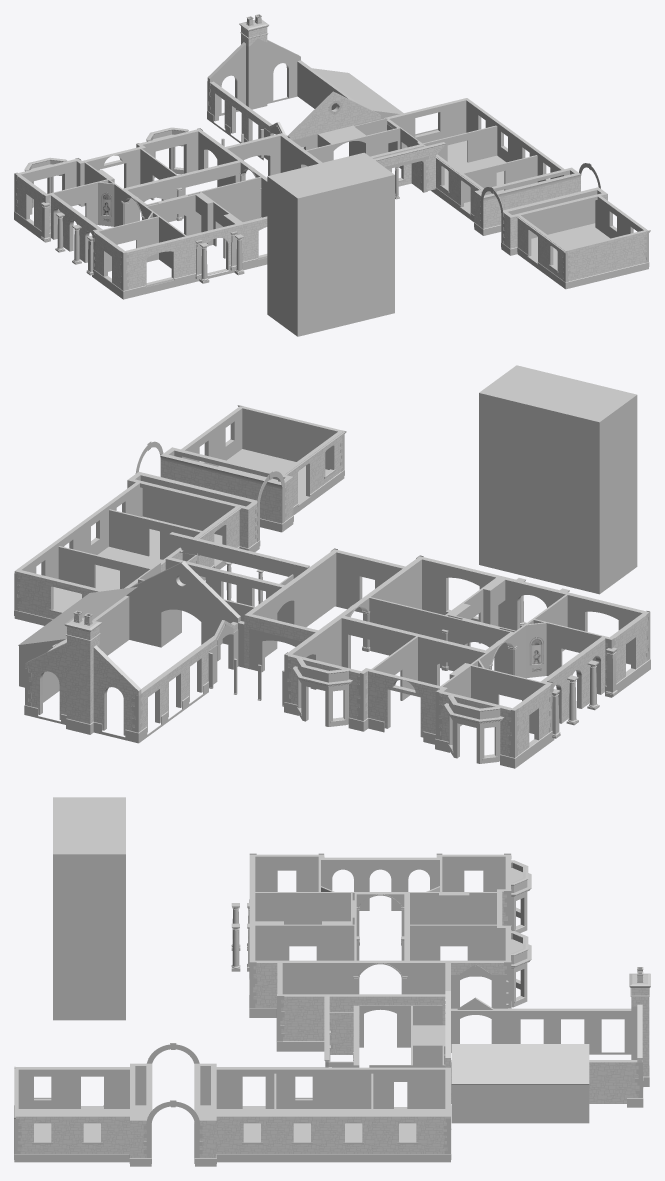
File: RB05__Storey__GroundFloor__ProposedWalls__MeshModel__.glb
3 renders of one model, top to bottom at view 1: azimuth 30°, elevation 25°; view 2: azimuth 150°, elevation 25°; view 3: azimuth 270°, elevation 25°, orthographic. The views are drawn at different scales.
Parts seen in each view (by area): view 1: 21__ProposedBuilding__Walls::Default, 21__ProposedBuilding__Walls::MAT000E__Masonry__StoneworkPatt; view 2: 21__ProposedBuilding__Walls::Default, 21__ProposedBuilding__Walls::MAT000E__Masonry__StoneworkPatt; view 3: 21__ProposedBuilding__Walls::Default, 21__ProposedBuilding__Walls::MAT000E__Masonry__StoneworkPatt.
Part boxes in pixels (<box>): 21__ProposedBuilding__Walls::Default: <box>14,19,650,336</box>; 21__ProposedBuilding__Walls::MAT000E__Masonry__StoneworkPatt: <box>16,26,646,289</box>; 21__ProposedBuilding__Walls::Default: <box>14,365,650,768</box>; 21__ProposedBuilding__Walls::MAT000E__Masonry__StoneworkPatt: <box>14,435,648,756</box>; 21__ProposedBuilding__Walls::Default: <box>14,797,650,1166</box>; 21__ProposedBuilding__Walls::MAT000E__Masonry__StoneworkPatt: <box>15,891,649,1157</box>.
Bounding box in the file's own units: 42.08 × 12.89 × 44.12.
4 materials, 2 textured.
